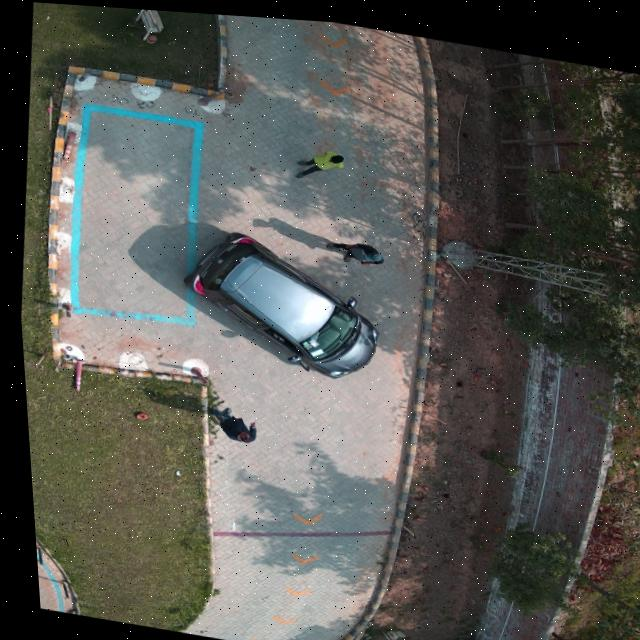car: (179, 229, 373, 373)
